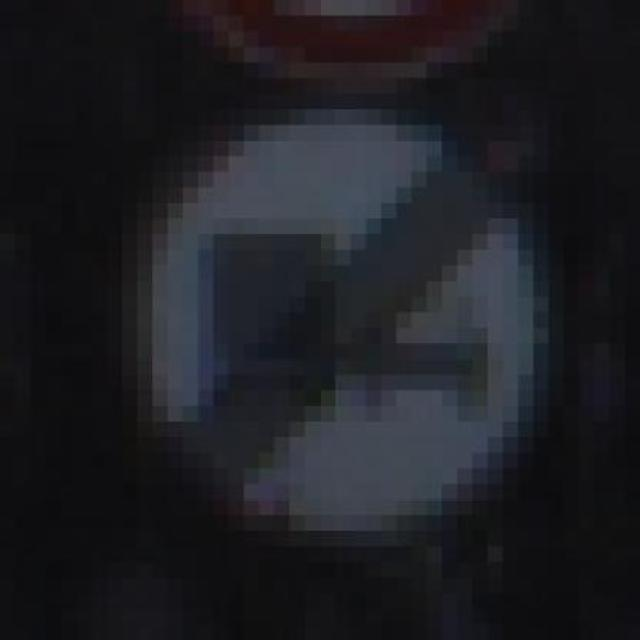Overtaking by trucks is prohibited: (61, 94, 594, 546)
